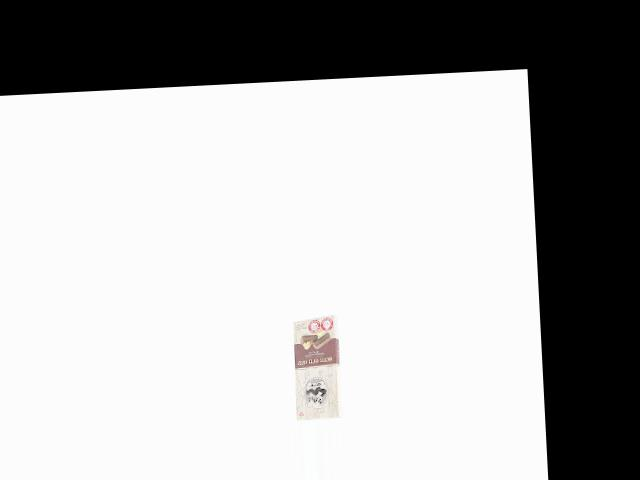chocolate: (289, 312, 350, 420)
